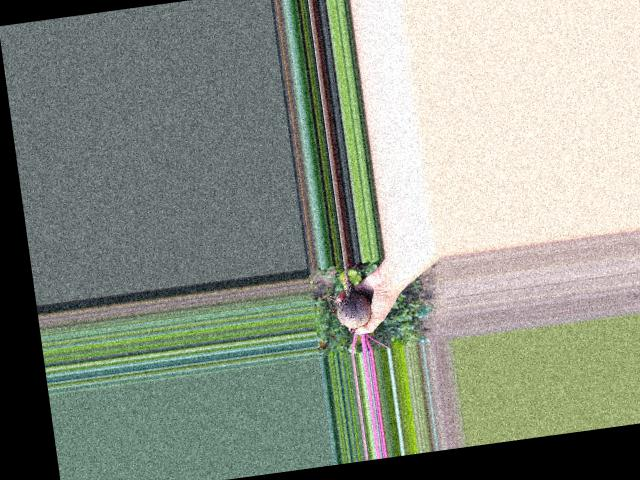beet: (316, 258, 390, 356)
